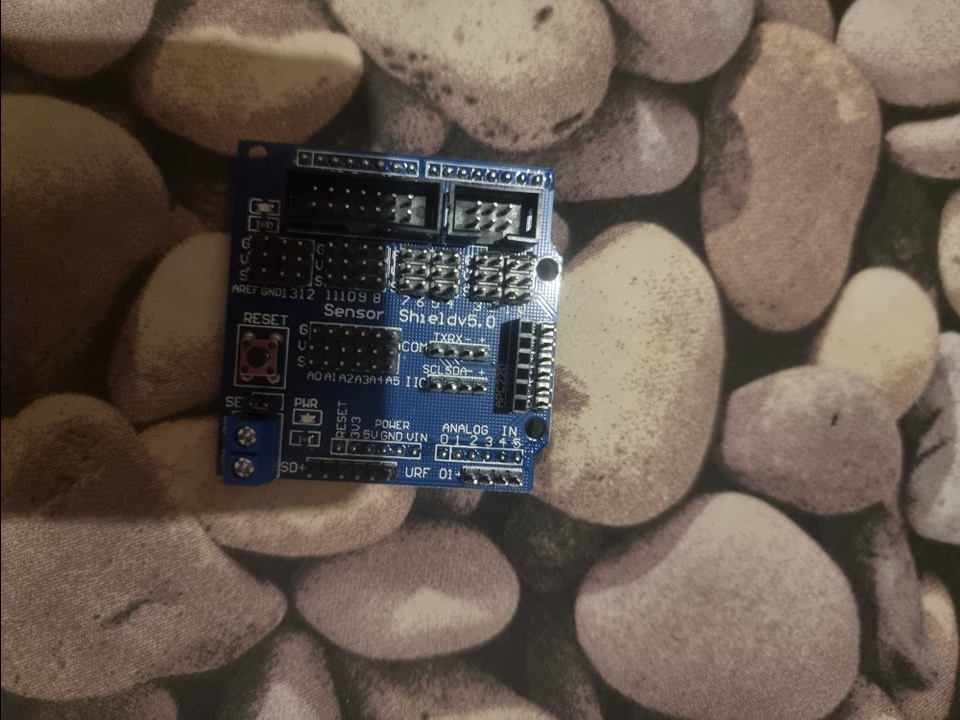5V EXPANSION: (215, 135, 557, 495)
